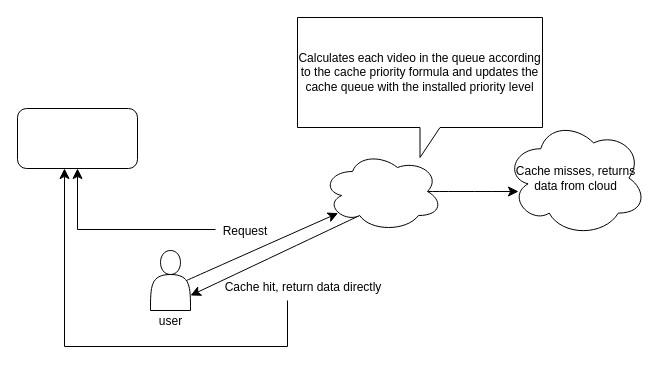
Some shapes in this 664 by 374 pixel diagram are drawn without their labels. The centre of each missing label's shape, as x and y in pixels:
"cache queue" goes at point (382, 191).
"Calculating Cache Hit Ratio" goes at point (77, 138).
